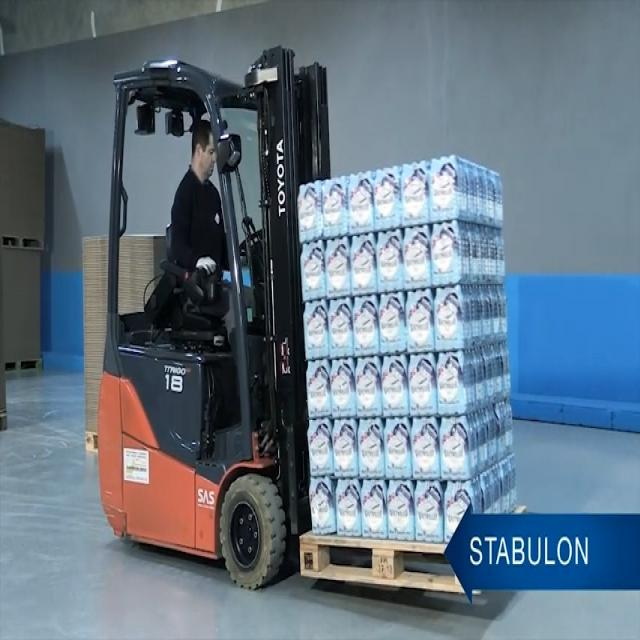Chariot elevateur: (94, 48, 341, 591)
Palette: (297, 523, 463, 597), (0, 225, 49, 259), (0, 347, 45, 381), (80, 424, 99, 449), (0, 409, 10, 425)
